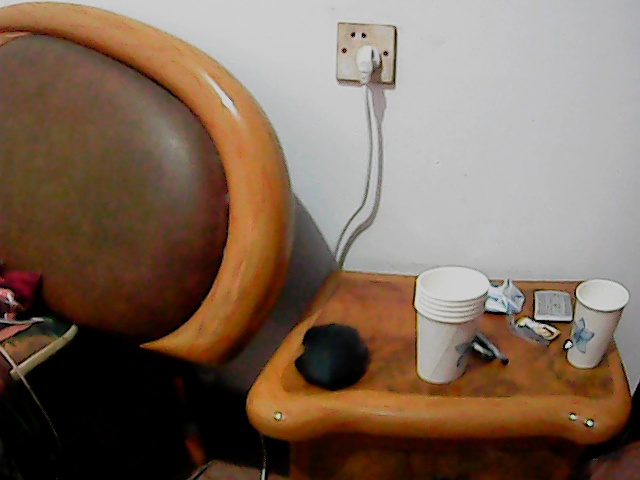cup: (414, 265, 488, 385)
mouse: (295, 319, 371, 390)
